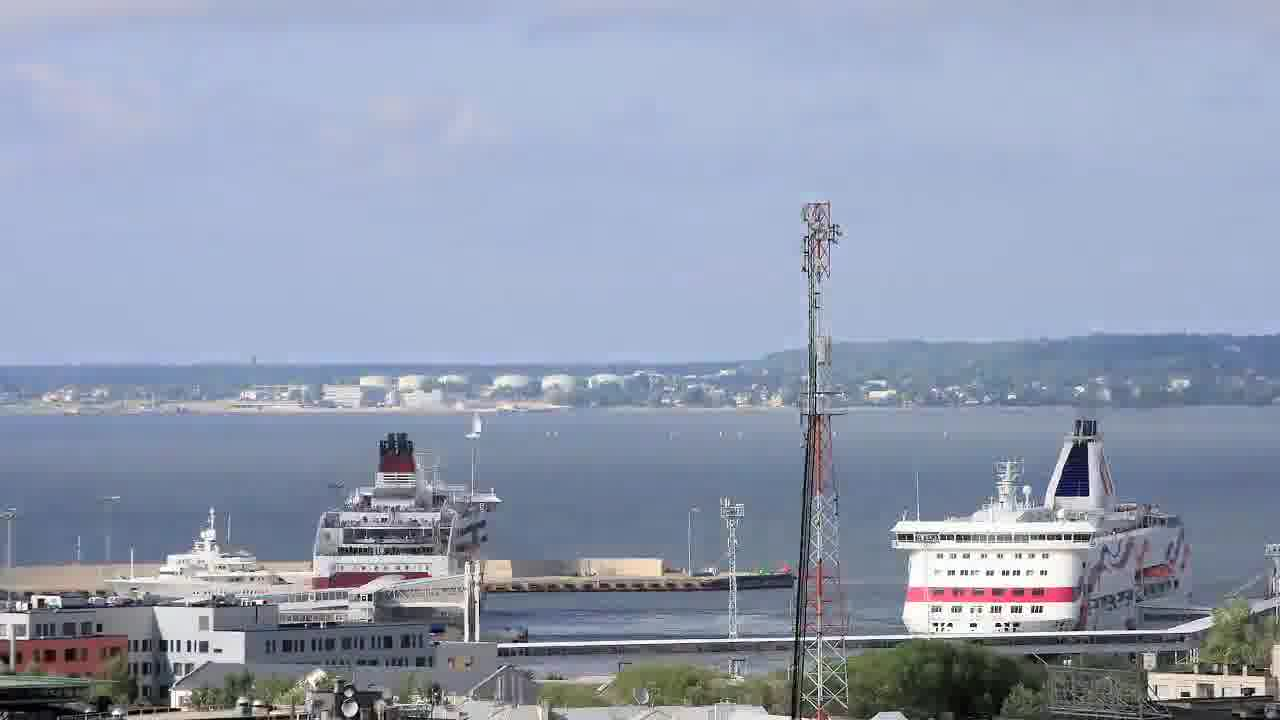type-2: (453, 394, 505, 454)
type-3: (868, 415, 1225, 638), (306, 429, 503, 625), (89, 527, 318, 613)
